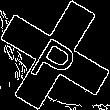P_NE: (26, 24, 84, 86)
